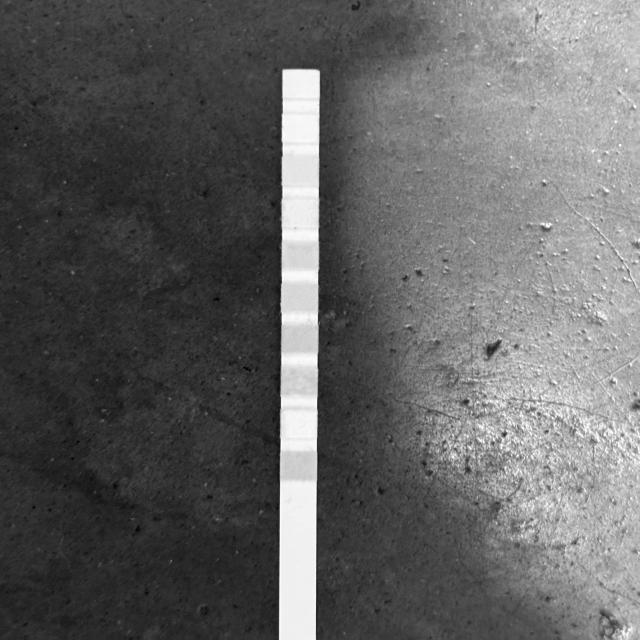Bilirubin: (282, 413, 316, 437)
Blood: (283, 285, 317, 311)
Glucose: (281, 452, 317, 480)
Ketone: (281, 370, 317, 394)
Leukocytes: (283, 73, 318, 98)
Nitrite: (283, 116, 319, 142)
Protein: (282, 200, 318, 226)
SpGravity: (282, 327, 318, 353)
Urobilinogen: (282, 158, 317, 185)
background: (0, 0, 640, 640)
pH: (284, 243, 318, 270)
strip: (280, 68, 319, 640)
